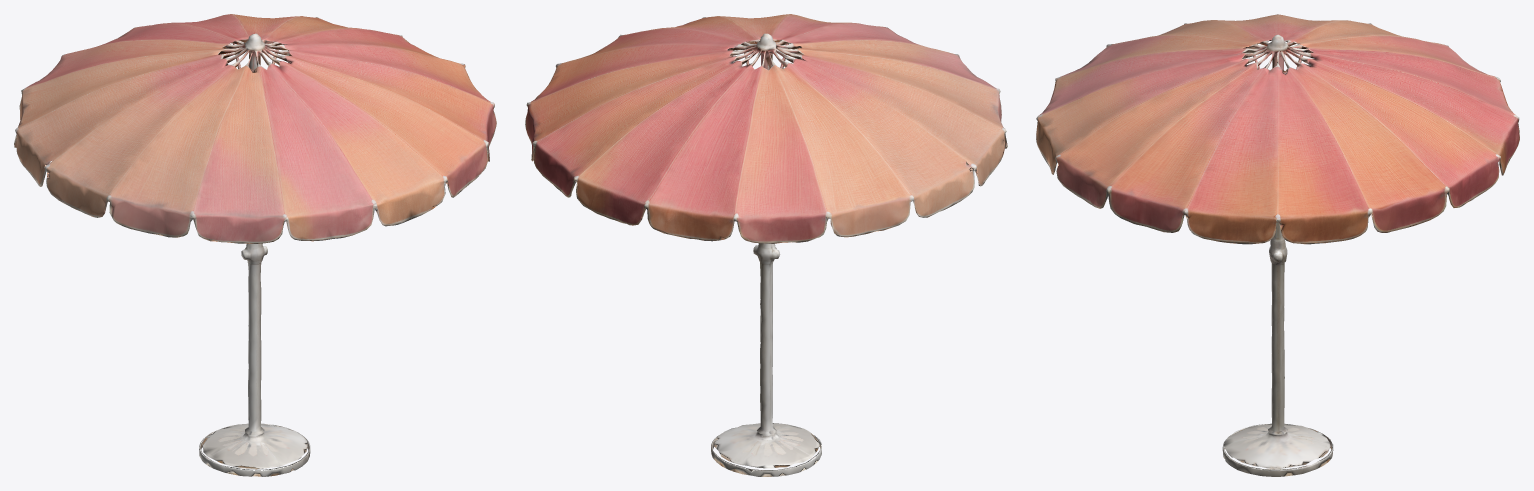
The model's file is VAR_Pool_Parasol_Open.fbx.
The picture shows the model from 3 angles, left to right: view 1: azimuth 30°, elevation 25°; view 2: azimuth 150°, elevation 25°; view 3: azimuth 270°, elevation 25°; orthographic projection.
Parts seen in each view (by area): view 1: texture_mapping; view 2: texture_mapping; view 3: texture_mapping.
Boxes of the visible parts, box(x1,y1,x2,y2) form: texture_mapping: box(14, 14, 496, 476); texture_mapping: box(525, 14, 1007, 476); texture_mapping: box(1036, 14, 1519, 476).
Bounding box in the file's own units: 1 × 0.9997 × 0.9556.
1 material, 1 textured.
